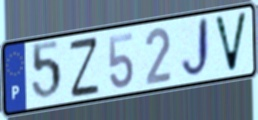2: (144, 25, 172, 87)
5: (30, 38, 64, 105), (107, 31, 135, 90)
J: (179, 15, 212, 82)
V: (212, 10, 250, 76)
Z: (68, 34, 101, 100)
